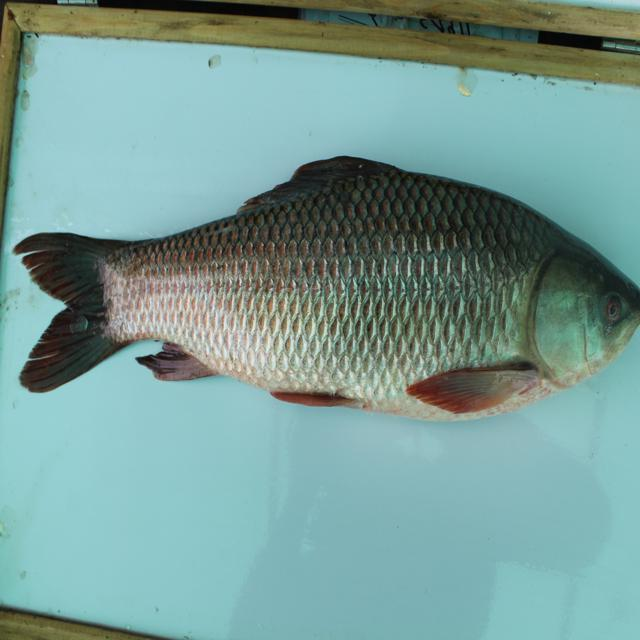Rohu: (12, 150, 630, 439)
